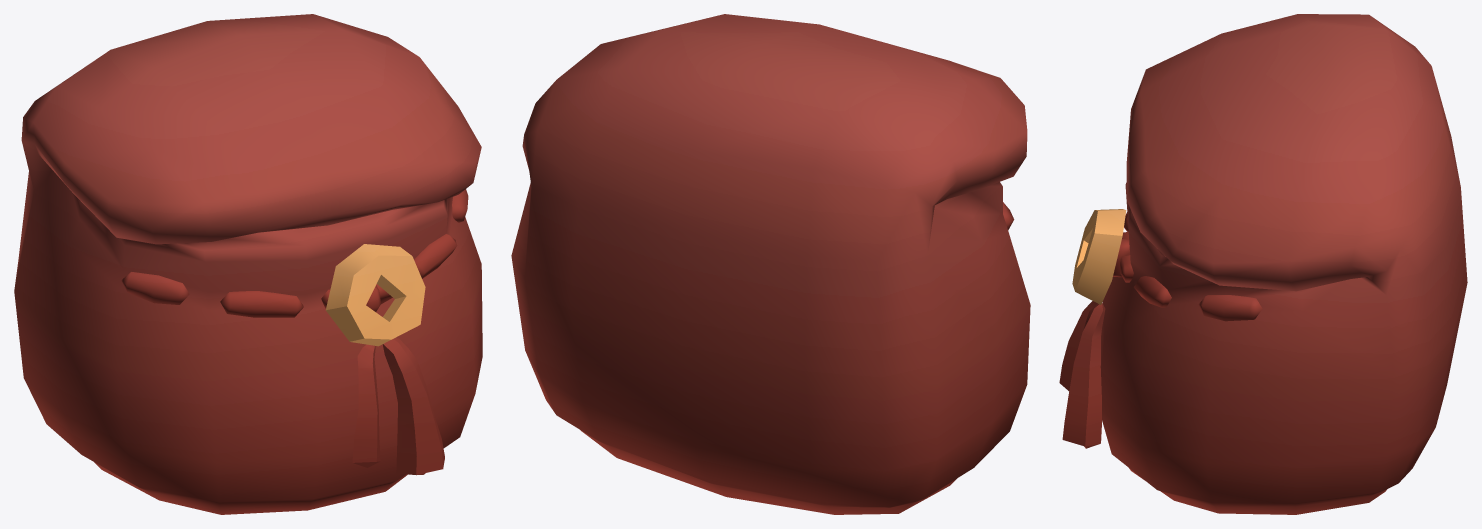
Rendered from CharSkyKid_Prop_FortunePlant.glb.
The picture shows the model from 3 angles, left to right: view 1: azimuth 30°, elevation 25°; view 2: azimuth 150°, elevation 25°; view 3: azimuth 270°, elevation 25°; orthographic projection. The views are drawn at different scales.
Visible parts, largest first — view 1: CharSkyKid_Prop_FortunePlant; view 2: CharSkyKid_Prop_FortunePlant; view 3: CharSkyKid_Prop_FortunePlant.
Boxes of the visible parts, x1=… form: CharSkyKid_Prop_FortunePlant: x1=14, y1=14, x2=482, y2=514; CharSkyKid_Prop_FortunePlant: x1=511, y1=14, x2=1030, y2=514; CharSkyKid_Prop_FortunePlant: x1=1059, y1=14, x2=1467, y2=514.
Bounding box in the file's own units: 3.41 × 3.29 × 3.06.
1 material, 1 textured.
